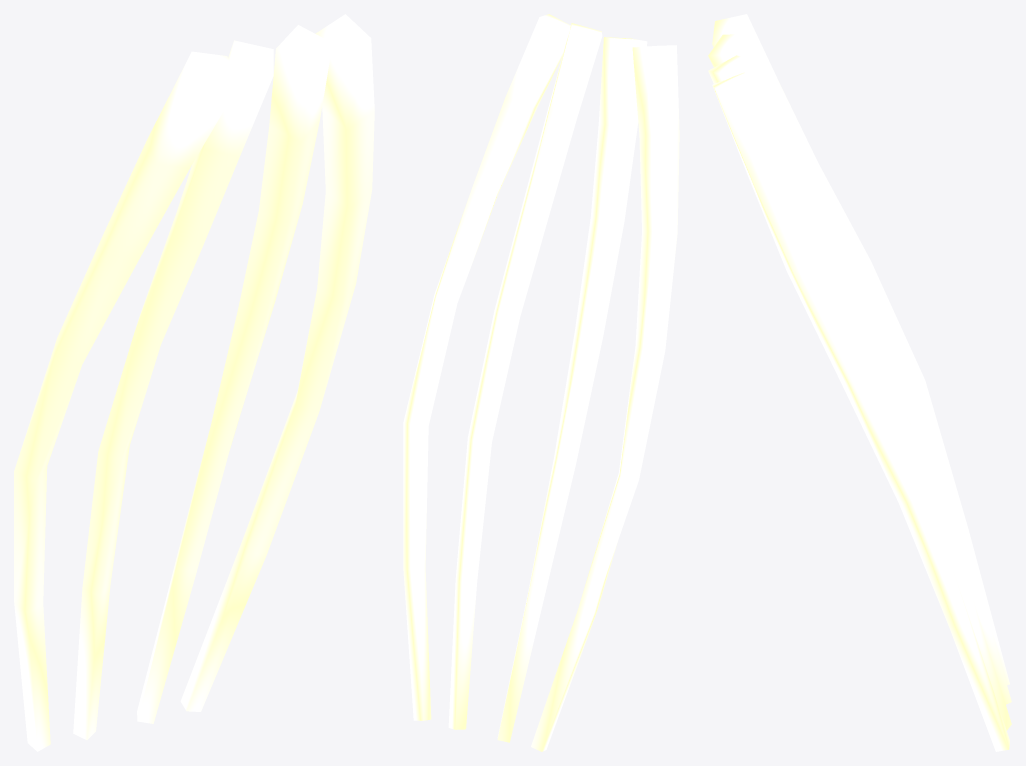
The model's file is dc_veil.glb.
3 views of the same model, side by side, from view 1: azimuth 30°, elevation 25°; view 2: azimuth 150°, elevation 25°; view 3: azimuth 270°, elevation 25° (orthographic). The views are drawn at different scales.
Visible parts, largest first — view 1: part.dc_veil; view 2: part.dc_veil; view 3: part.dc_veil.
Boxes of the visible parts, x1=… form: part.dc_veil: x1=14, y1=14, x2=374, y2=751; part.dc_veil: x1=403, y1=14, x2=679, y2=751; part.dc_veil: x1=708, y1=14, x2=1011, y2=751.
Bounding box in the file's own units: 0.4871 × 1.22 × 0.5001.
